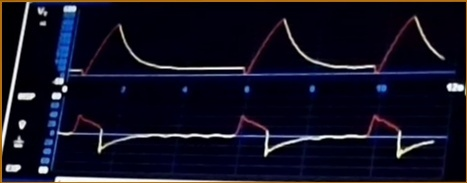Flow: (64, 103, 437, 172)
Leakage Volume: (75, 10, 452, 81)
